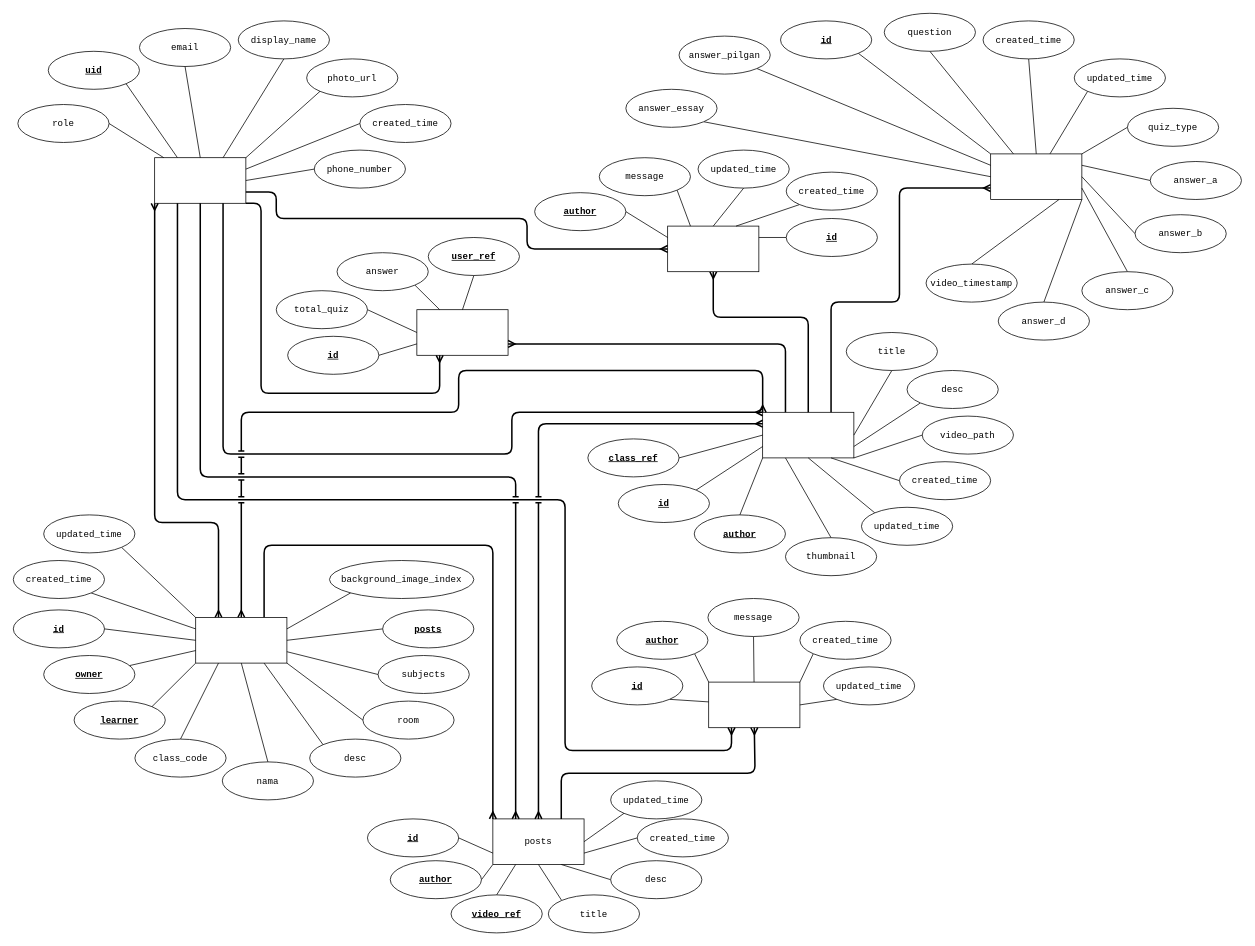
The diagram is 1255 pixels wide and 946 high, and some of its shapes have lost their labels. Here are the shapes that lost their labels. From the top down, the centre of each, then its label:
(x=200, y=180): users
(x=1036, y=176): quiz
(x=713, y=248): v_discussion
(x=462, y=332): quiz_answer
(x=808, y=435): videos
(x=241, y=640): classes
(x=754, y=704): p_discussion
